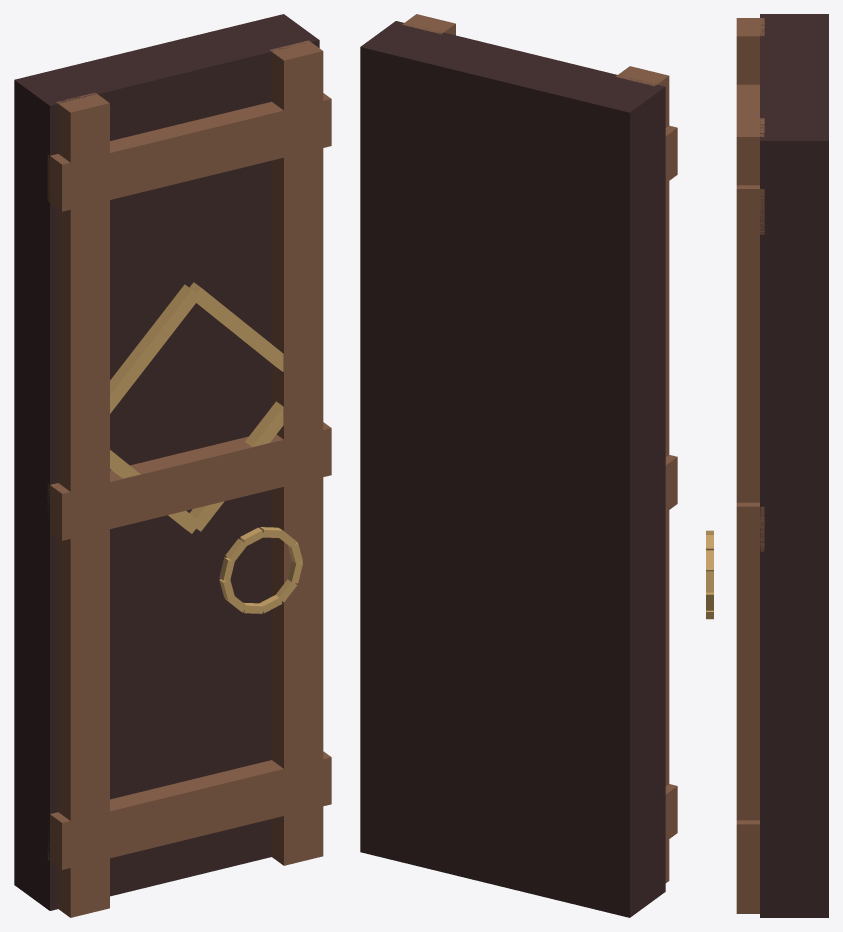
File: room_door_leaf.glb
3 views of the same model, side by side, from view 1: azimuth 30°, elevation 25°; view 2: azimuth 150°, elevation 25°; view 3: azimuth 270°, elevation 25° (orthographic). The views are drawn at different scales.
Visible parts, largest first — view 1: Private / Timber, Private / Cedar, Private / Bronze; view 2: Private / Timber, Private / Cedar; view 3: Private / Timber, Private / Cedar, Private / Bronze.
Part boxes in pixels (left/top/right/bottom): Private / Timber: left=14, top=14, right=319, bottom=910; Private / Cedar: left=47, top=40, right=331, bottom=917; Private / Bronze: left=110, top=282, right=302, bottom=613; Private / Timber: left=360, top=21, right=665, bottom=917; Private / Cedar: left=402, top=14, right=677, bottom=882; Private / Timber: left=760, top=14, right=828, bottom=917; Private / Cedar: left=736, top=18, right=764, bottom=913; Private / Bronze: left=706, top=530, right=713, bottom=619.
Bounding box in the file's own units: 0.96 × 2.74 × 0.3925.
